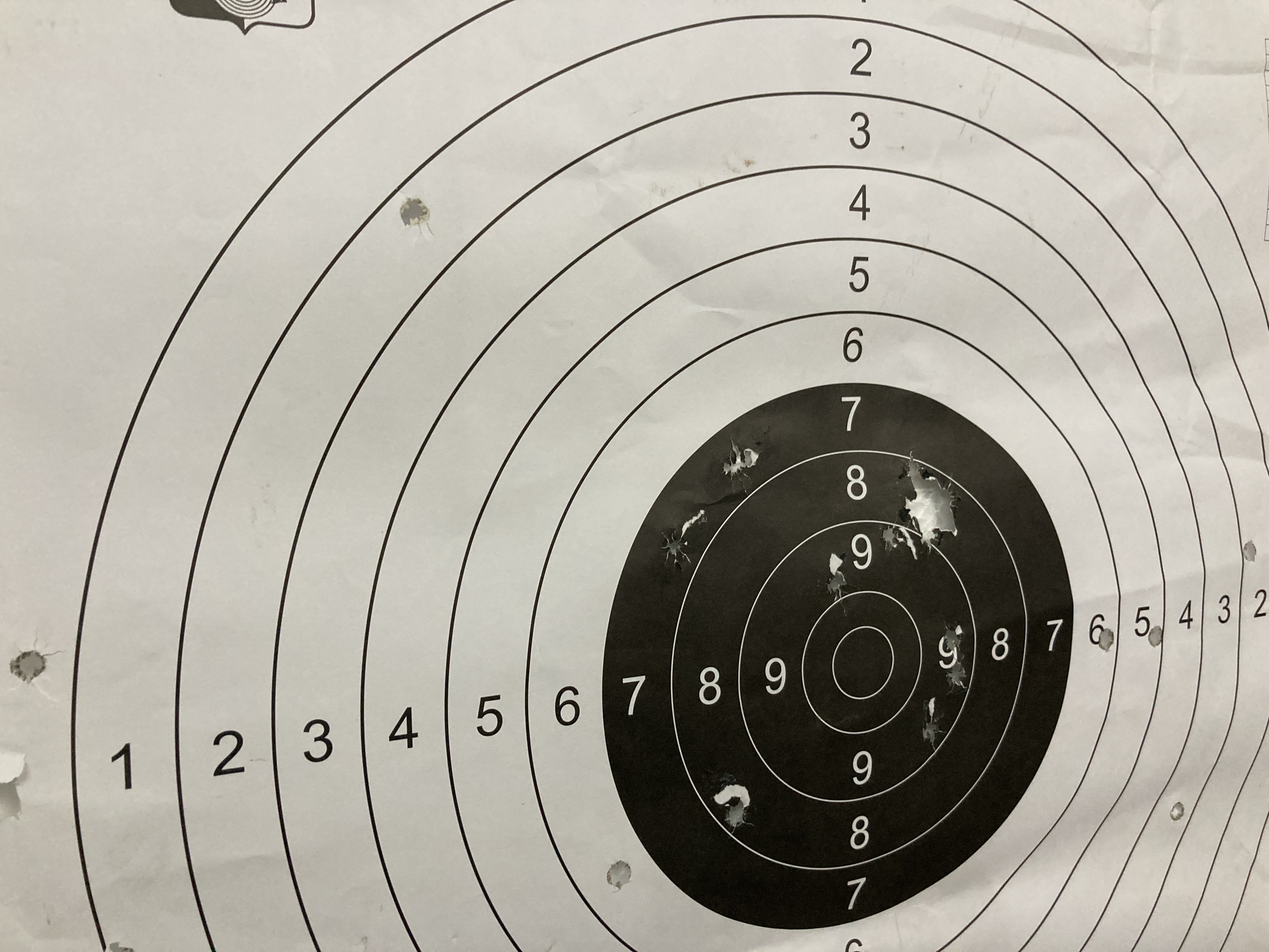hole: (885, 458, 965, 546), (652, 523, 710, 586), (388, 190, 445, 243), (714, 786, 767, 841), (717, 438, 766, 493), (595, 851, 645, 899), (906, 705, 954, 751), (932, 612, 977, 652), (13, 644, 57, 684), (928, 657, 972, 691), (1086, 618, 1122, 658), (819, 559, 856, 595), (876, 520, 909, 555), (1237, 532, 1265, 573), (1142, 619, 1171, 651), (1168, 800, 1191, 830)
